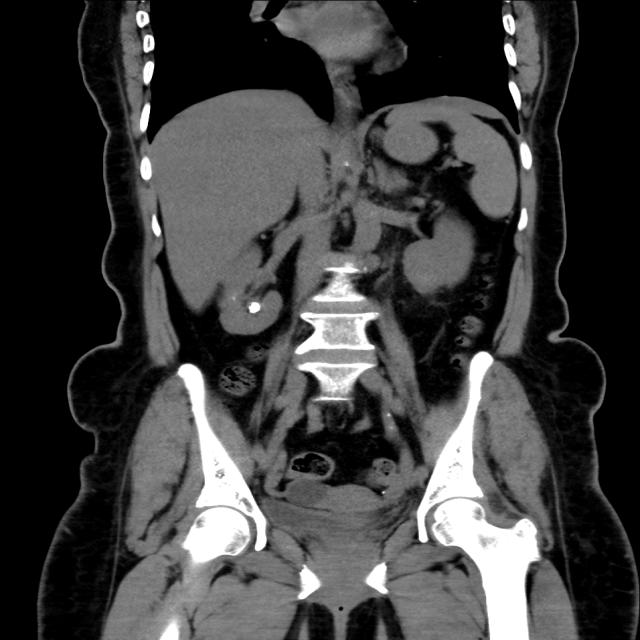kidneystone: (247, 301, 262, 314)
